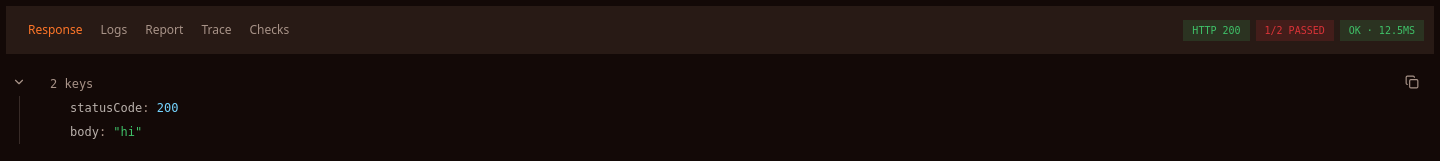
lists each check with its matcher, expected, and actual value
Click the tab "Checks".
click(269, 30)  # box [240,16,298,44]
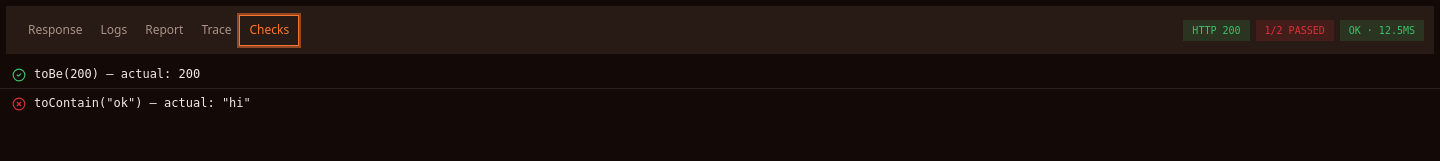
Check: the text "toBe(200) — actual: 200" is shown, box [34,66,200,82]
Check: the text "toContain(\"ok\") — actual: \"hi\"" is shown, box [34,95,251,111]
Check: the picture named "Check passed" is shown, box [12,68,26,82]
